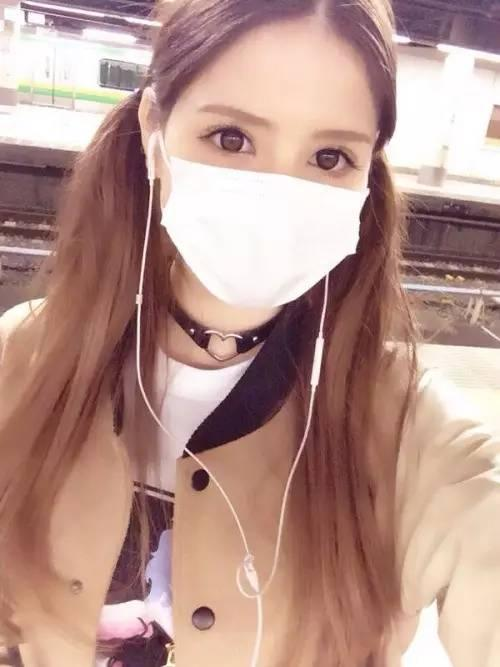face_mask: (160, 18, 374, 308)
